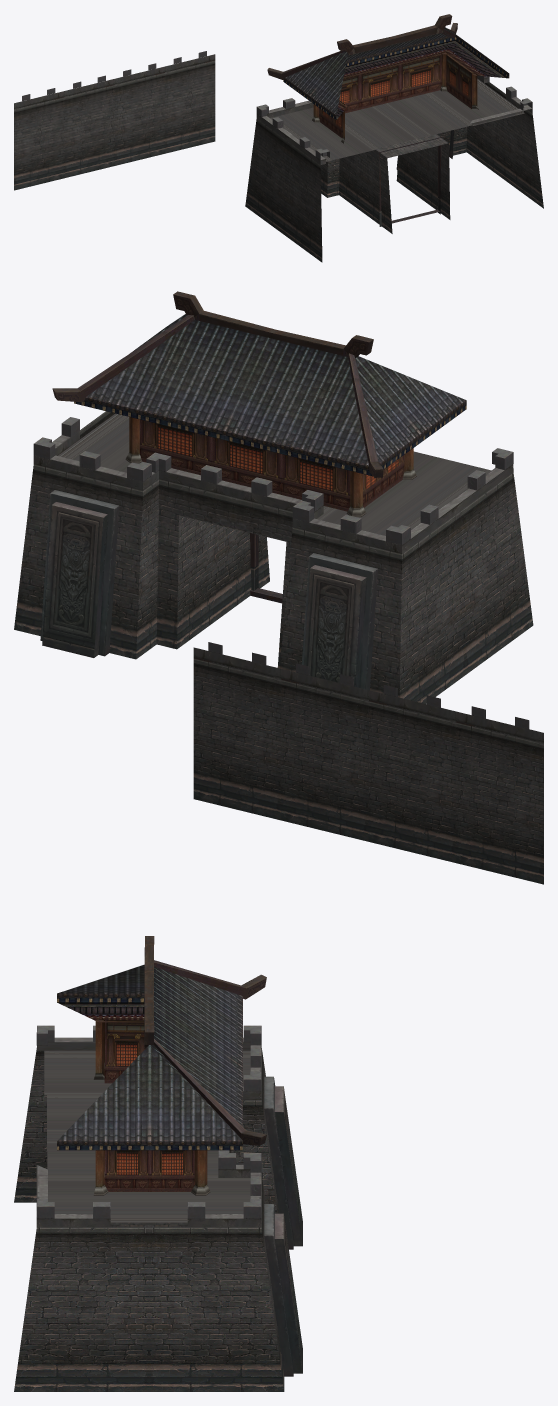
The model's file is s7_cityelement_new_1117.FBX.
The picture shows the model from 3 angles, top to bottom: view 1: azimuth 30°, elevation 25°; view 2: azimuth 150°, elevation 25°; view 3: azimuth 270°, elevation 25°; orthographic projection. The views are drawn at different scales.
Visible parts, largest first — view 1: Object013, s7_city_new_chengqiang002, s7_cityroof001; view 2: Object013, s7_city_new_chengqiang002, s7_cityroof001; view 3: Object013, s7_cityroof001.
Boxes of the visible parts, x1=… form: Object013: x1=245, y1=14, x2=543, y2=262; s7_city_new_chengqiang002: x1=14, y1=51, x2=215, y2=190; s7_cityroof001: x1=283, y1=27, x2=509, y2=143; Object013: x1=14, y1=291, x2=533, y2=703; s7_city_new_chengqiang002: x1=193, y1=642, x2=543, y2=884; s7_cityroof001: x1=74, y1=314, x2=466, y2=516; Object013: x1=14, y1=936, x2=302, y2=1391; s7_cityroof001: x1=57, y1=964, x2=242, y2=1195.
Size of the model in its own units: 52.24 by 23.56 by 36.14.
